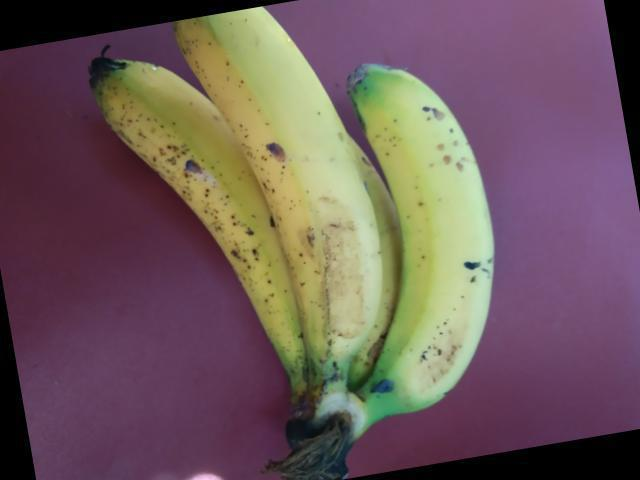ripe: (96, 63, 343, 409), (156, 0, 378, 380), (352, 39, 504, 458)
